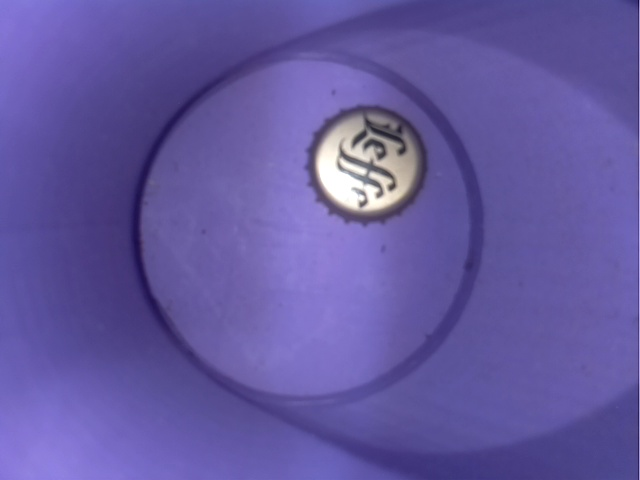capsule: (299, 98, 434, 223)
